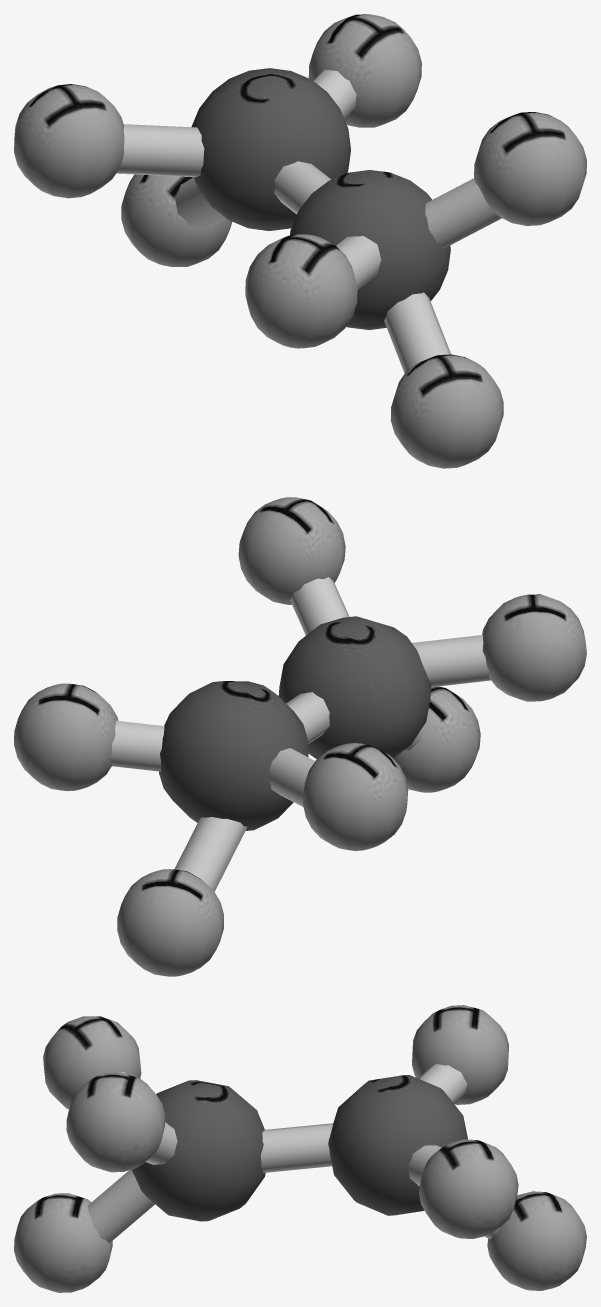
The model's file is Ethane.fbx.
3 renders of one model, top to bottom at view 1: azimuth 30°, elevation 25°; view 2: azimuth 150°, elevation 25°; view 3: azimuth 270°, elevation 25°, orthographic. The views are drawn at different scales.
Visible parts, largest first — view 1: Ethane_; view 2: Ethane_; view 3: Ethane_.
Part boxes in pixels (left/top/right/bottom): Ethane_: left=14, top=14, right=586, bottom=468; Ethane_: left=14, top=497, right=586, bottom=976; Ethane_: left=14, top=1005, right=586, bottom=1292.
Bounding box in the file's own units: 24.08 × 17.14 × 34.33.
Materials: 2 (1 with a texture image).
